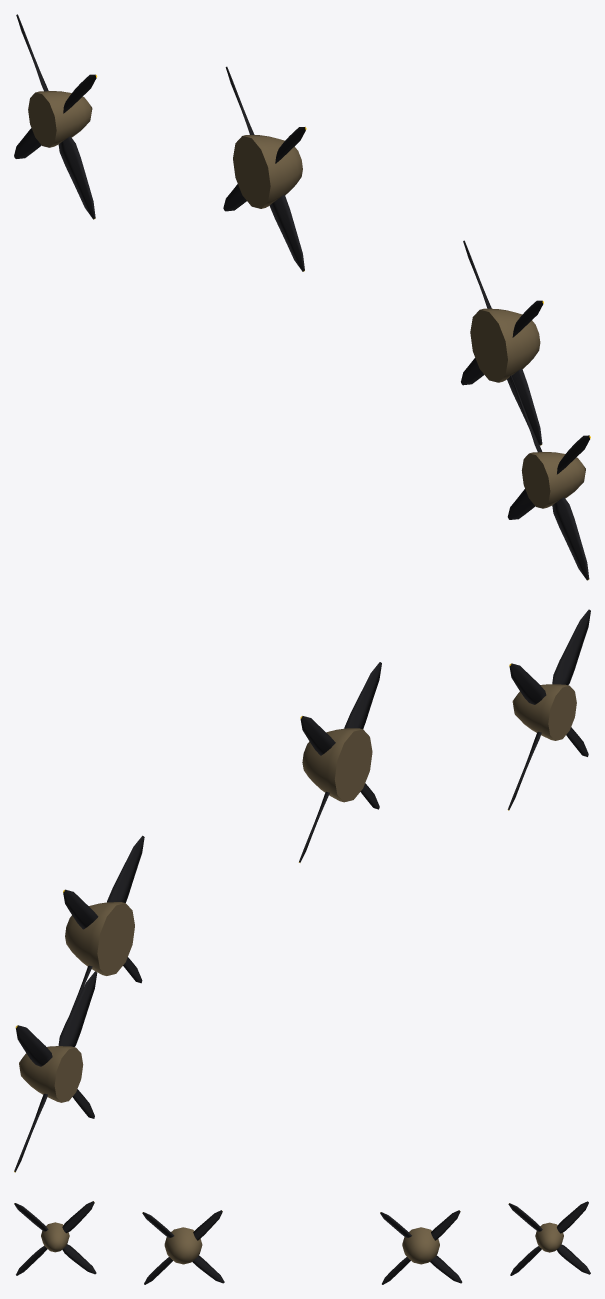
Rendered from fh_prop_bomber_1.glb.
3 renders of one model, top to bottom at view 1: azimuth 30°, elevation 25°; view 2: azimuth 150°, elevation 25°; view 3: azimuth 270°, elevation 25°, orthographic. The views are drawn at different scales.
Parts seen in each view (by area): view 1: prop_inner_l, prop_inner_r, prop_outer_l, prop_outer_r; view 2: prop_inner_r, prop_inner_l, prop_outer_r, prop_outer_l; view 3: prop_inner_l, prop_inner_r, prop_outer_l, prop_outer_r.
Part boxes in pixels (box(x1,y1,x2,y2)): prop_inner_l: box(223, 66, 306, 271); prop_inner_r: box(461, 240, 543, 445); prop_outer_l: box(14, 14, 97, 219); prop_outer_r: box(507, 375, 590, 580); prop_inner_r: box(299, 662, 381, 862); prop_inner_l: box(63, 835, 144, 1013); prop_outer_r: box(507, 609, 590, 810); prop_outer_l: box(14, 971, 97, 1172); prop_inner_l: box(380, 1210, 462, 1284); prop_inner_r: box(142, 1210, 224, 1284); prop_outer_l: box(508, 1201, 590, 1275); prop_outer_r: box(14, 1201, 96, 1275).
Size of the model in its own units: 0.089 by 0.1113 by 0.6775.
